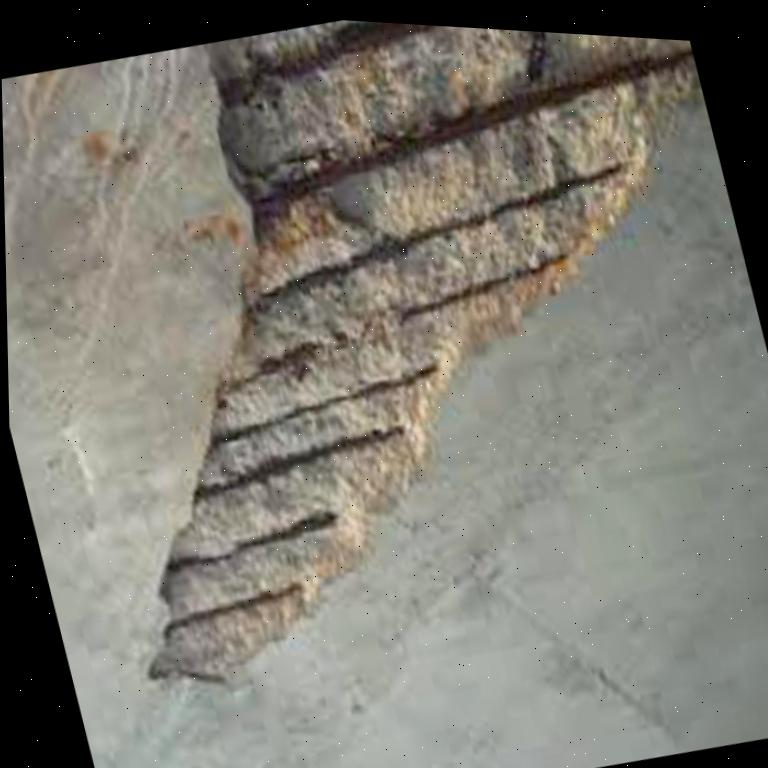exposed_rebar: (254, 39, 693, 229), (249, 163, 625, 324), (212, 361, 438, 445), (219, 21, 442, 106), (197, 424, 405, 494), (401, 254, 567, 321), (167, 509, 336, 571), (172, 584, 302, 624), (225, 342, 322, 392), (526, 31, 547, 81)
spalling: (153, 21, 694, 677)
